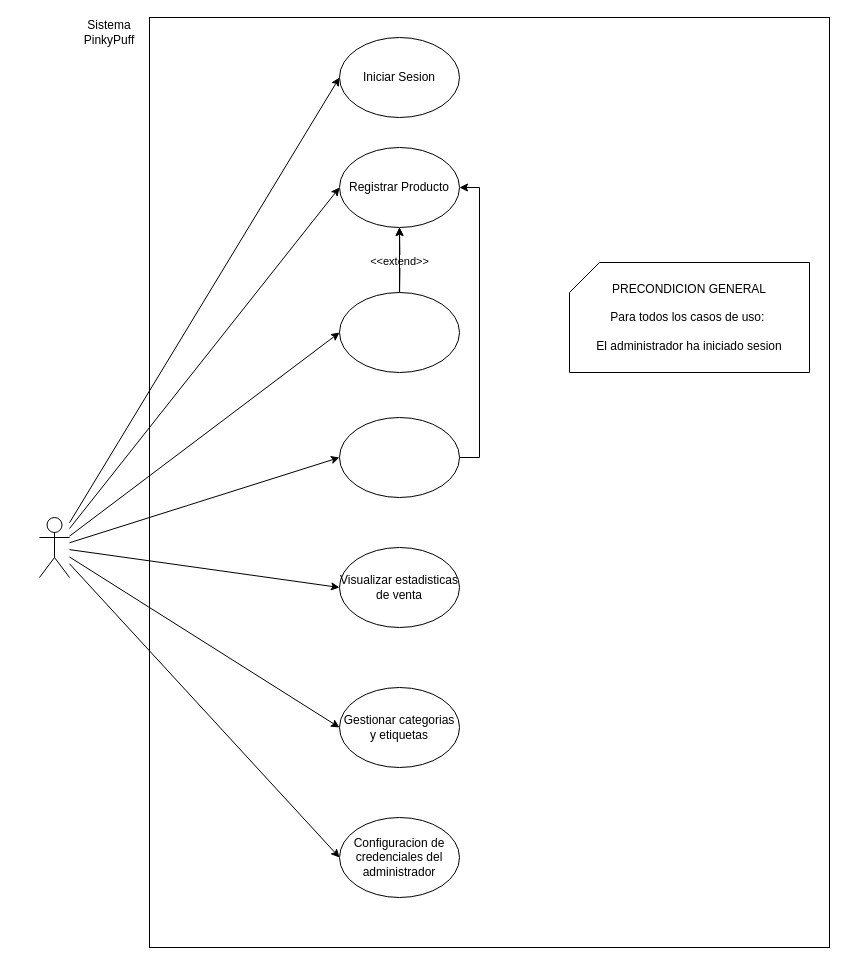
Image size: 847x965. Some labels were removed from this diagram. Here are the shapes that lost their labels. From the top down, the centre of each, then its label:
point (399, 332): Gestionar pedidos
point (399, 457): Gestionar clientes registrados
point (54, 547): Administrador
